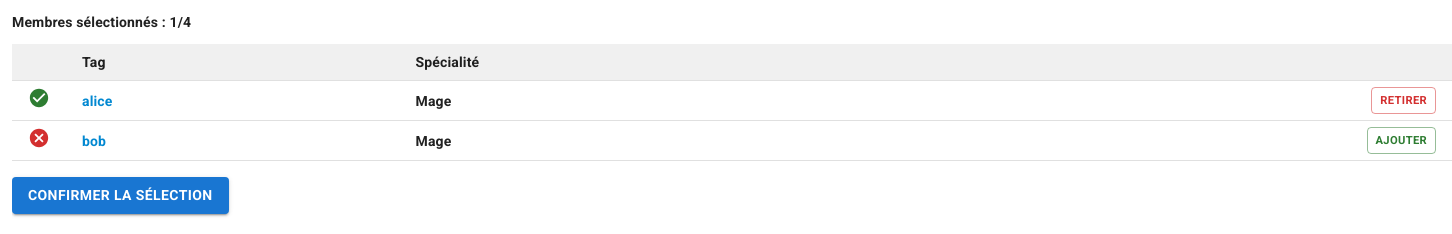
Test: SelectionMemberList › togglePending adds member to pending set when Ajouter is clicked
Click the button "Ajouter" at (1401, 140), box [1366,127,1436,154]
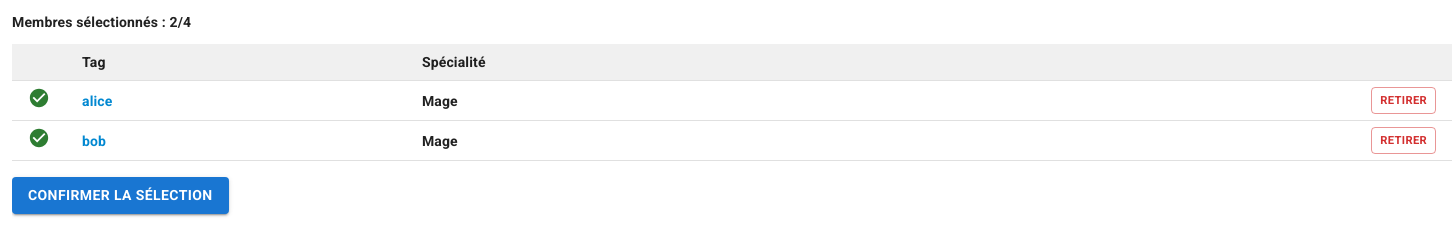
Result: the text "Membres sélectionnés : 2/4" is shown at [12,14,191,30]
